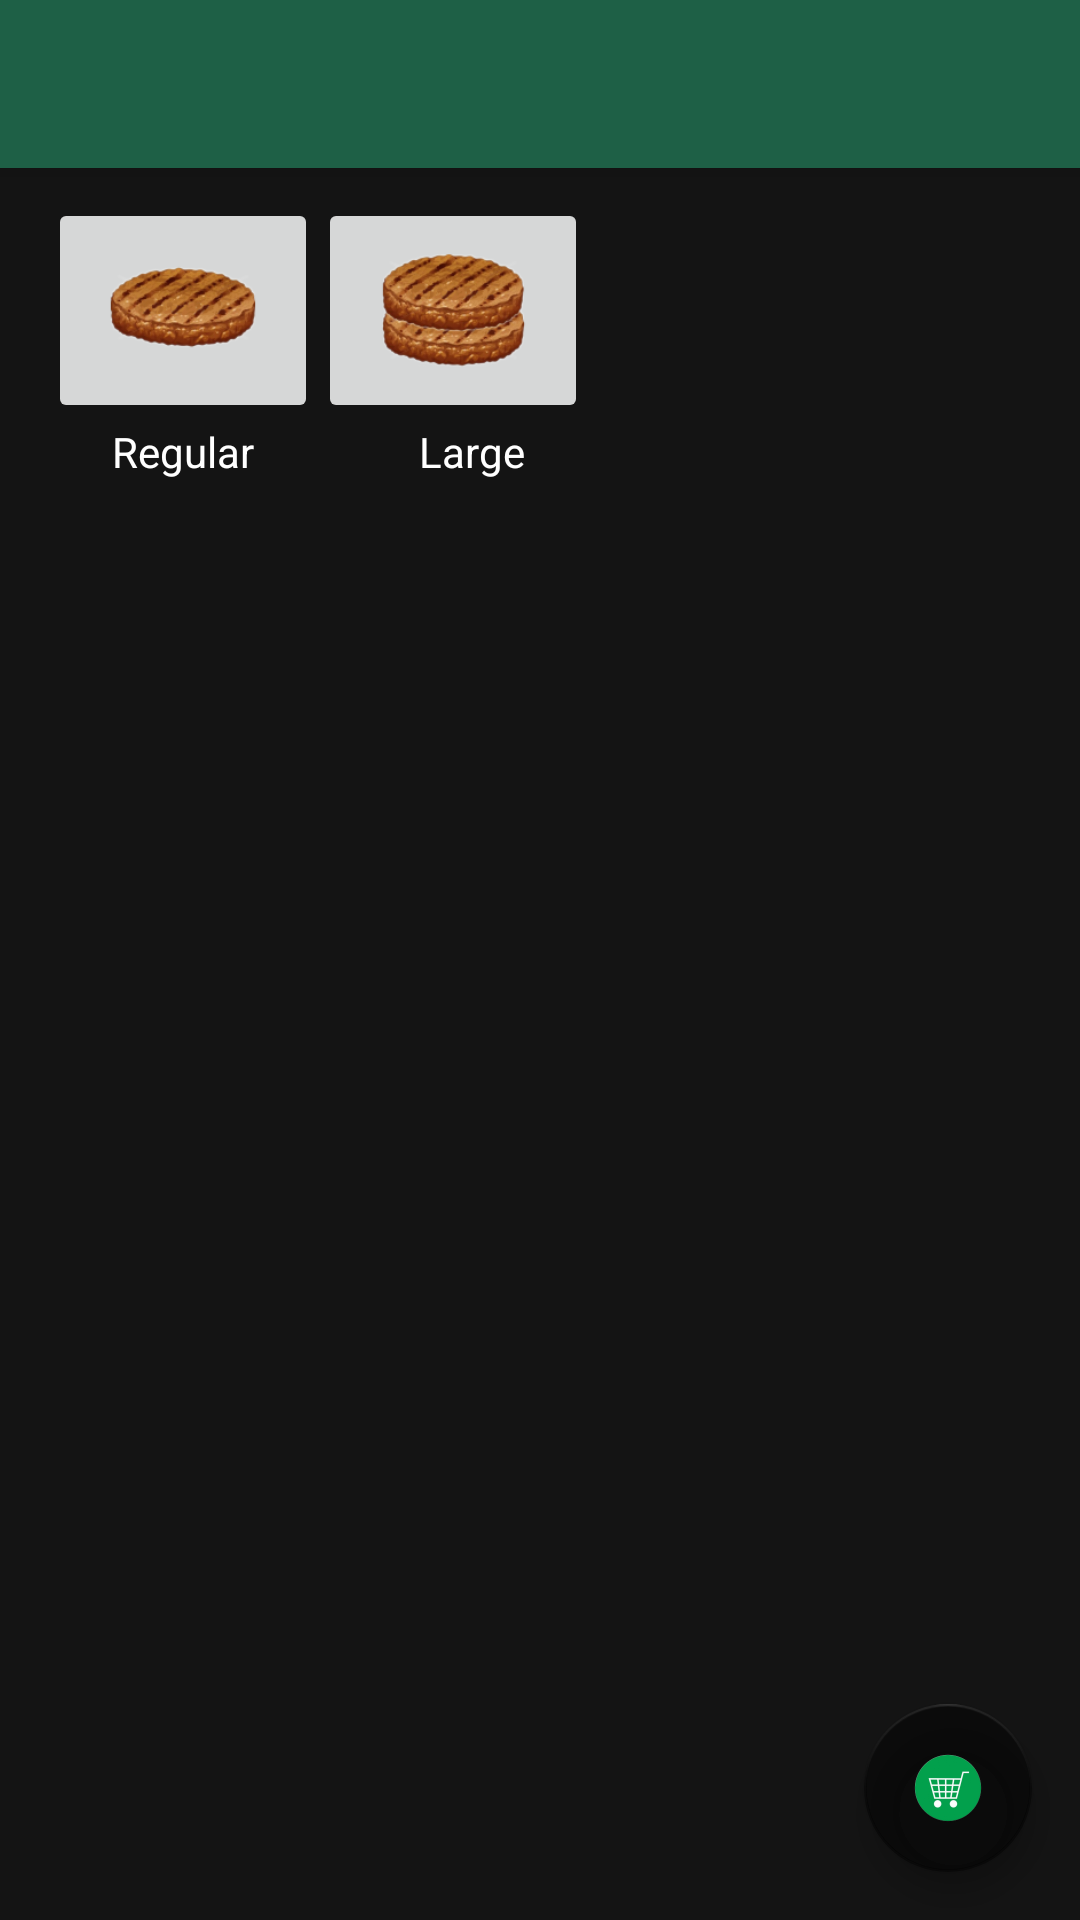

Point at icon controls on the screen. Image size 1080 × 1920, points as (x,y).
burger meat: (183,310)
double burger meat: (453,310)
shopping cart: (948,1788)
